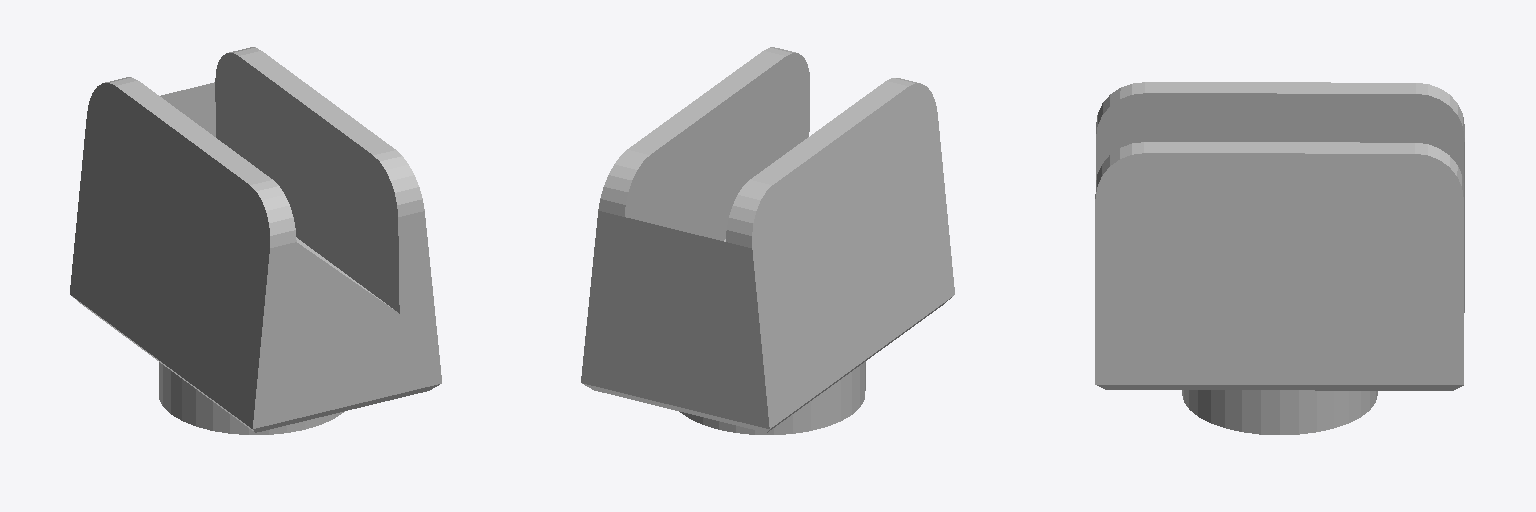
The model's file is Hand.obj.
3 renders of one model, left to right at view 1: azimuth 30°, elevation 25°; view 2: azimuth 150°, elevation 25°; view 3: azimuth 270°, elevation 25°, orthographic.
Parts seen in each view (by area): view 1: Hand_Cylinder.012; view 2: Hand_Cylinder.012; view 3: Hand_Cylinder.012.
Boxes of the visible parts, x1,y1,x2,y2 form: Hand_Cylinder.012: [70, 47, 441, 434]; Hand_Cylinder.012: [581, 47, 954, 434]; Hand_Cylinder.012: [1095, 82, 1464, 434].
Bounding box in the file's own units: 0.745 × 1.03 × 1.25.